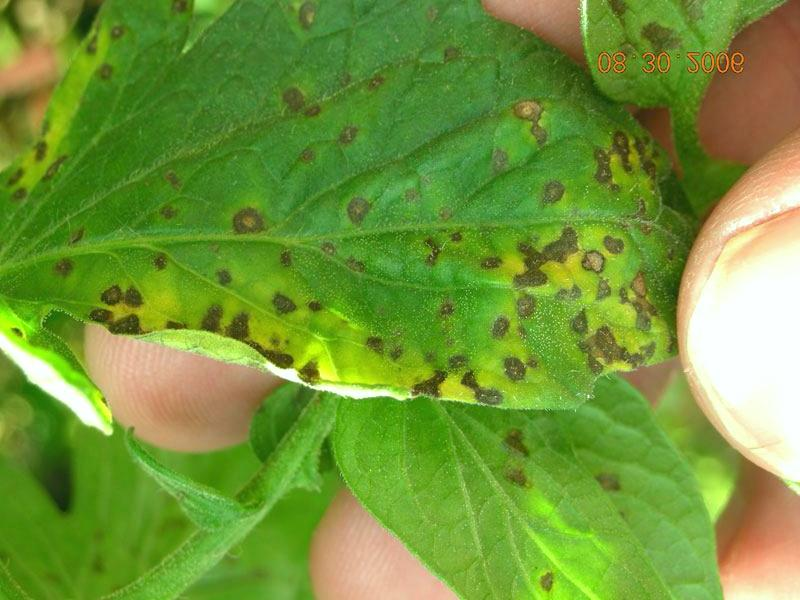Tomato Septoria leaf spot: (3, 33, 694, 393)
